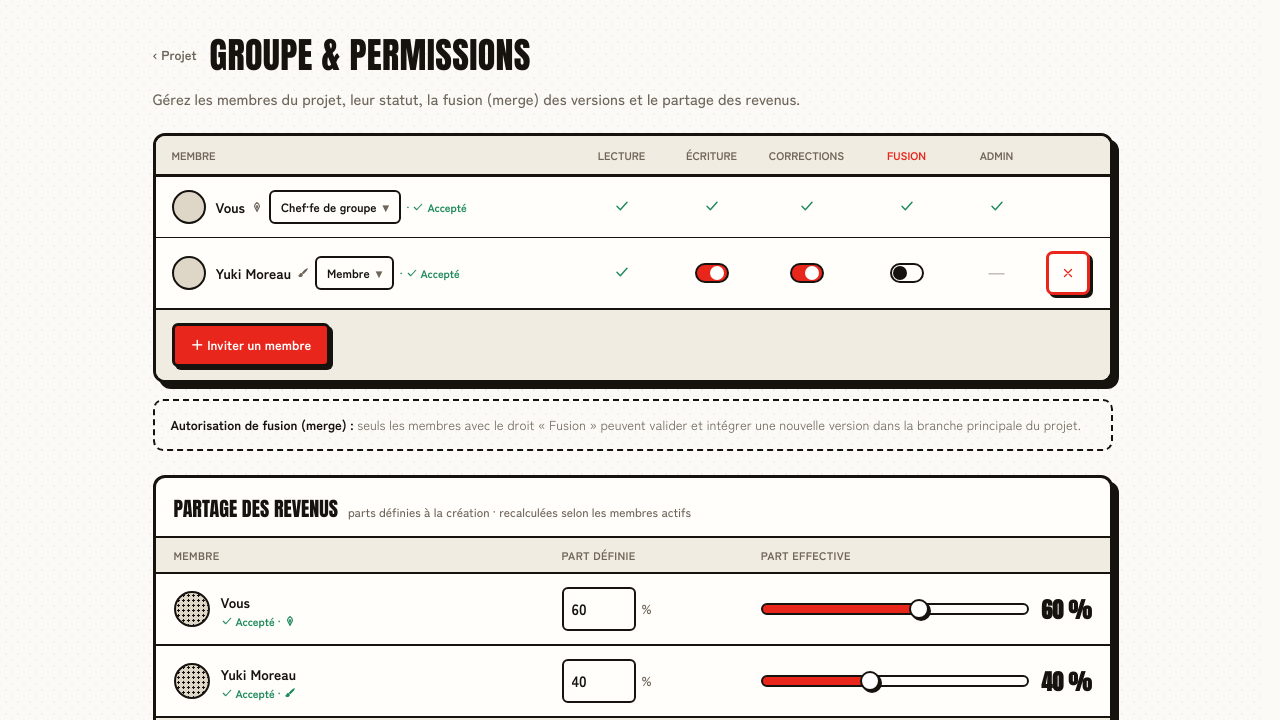
GroupePermissionsClient — revoke & role › revoking opens a confirmation dialog and only deletes on confirm
Click the button named "Révoquer Yuki Moreau": click(1068, 273) [1046,251,1090,295]
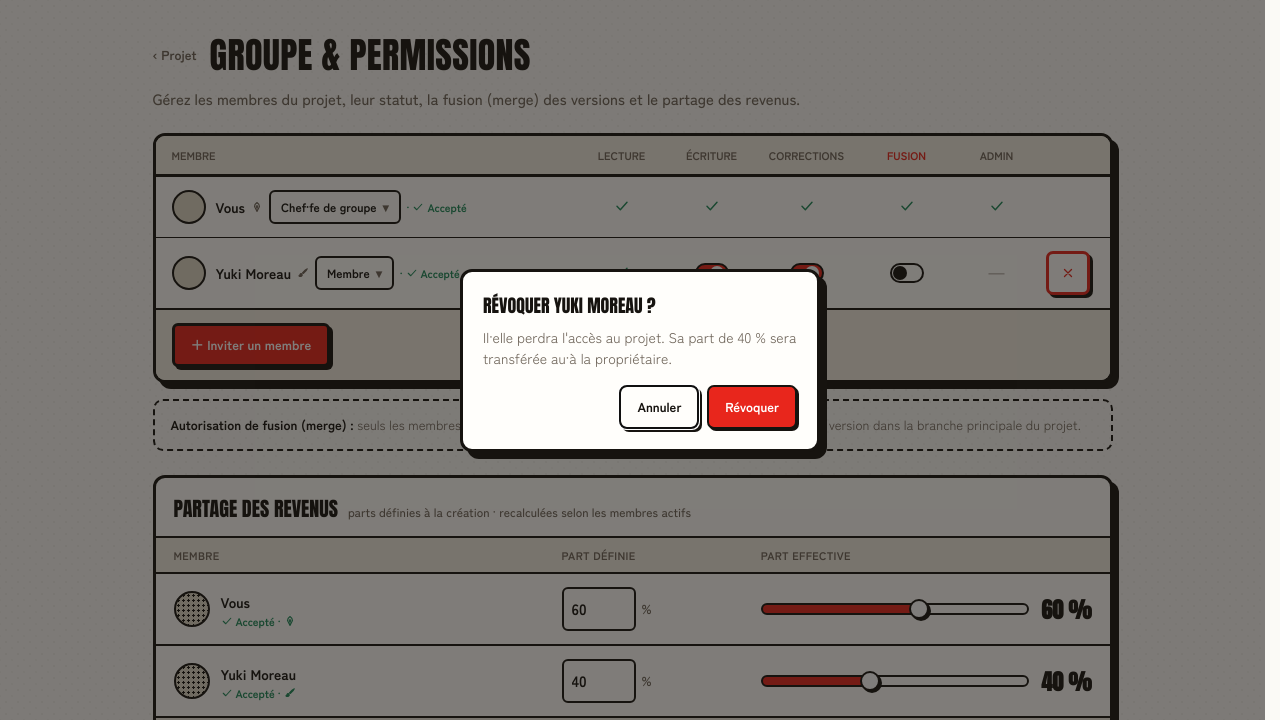
Now the text "Révoquer Yuki Moreau ?" is shown, box [483,292,656,318]
Click the button "Révoquer": click(752, 406) [707,384,797,428]
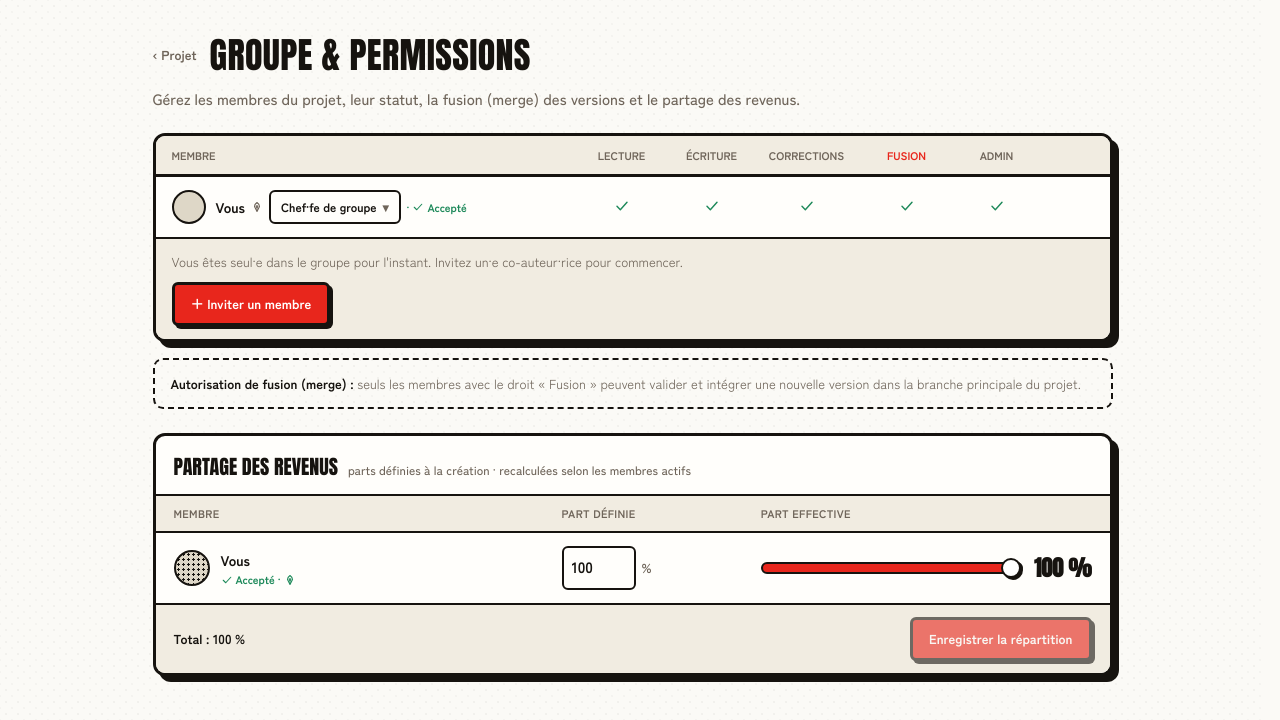
Now the text "Yuki Moreau" is not shown
